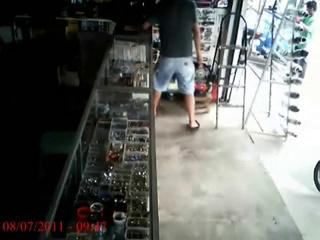shoplifting: (142, 0, 204, 130)
